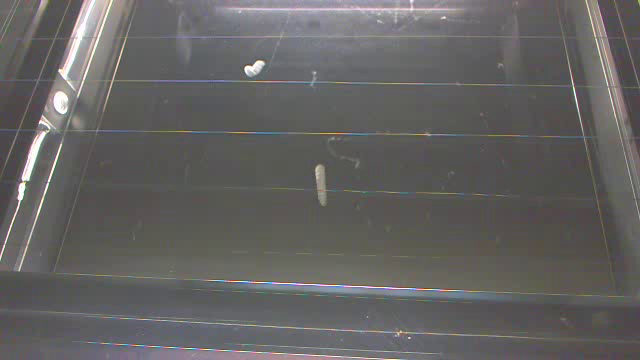alpha: (316, 164, 329, 206), (252, 58, 266, 77), (244, 66, 255, 76)
